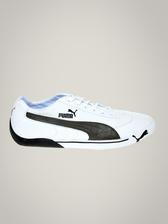shoes: (8, 88, 158, 148)
